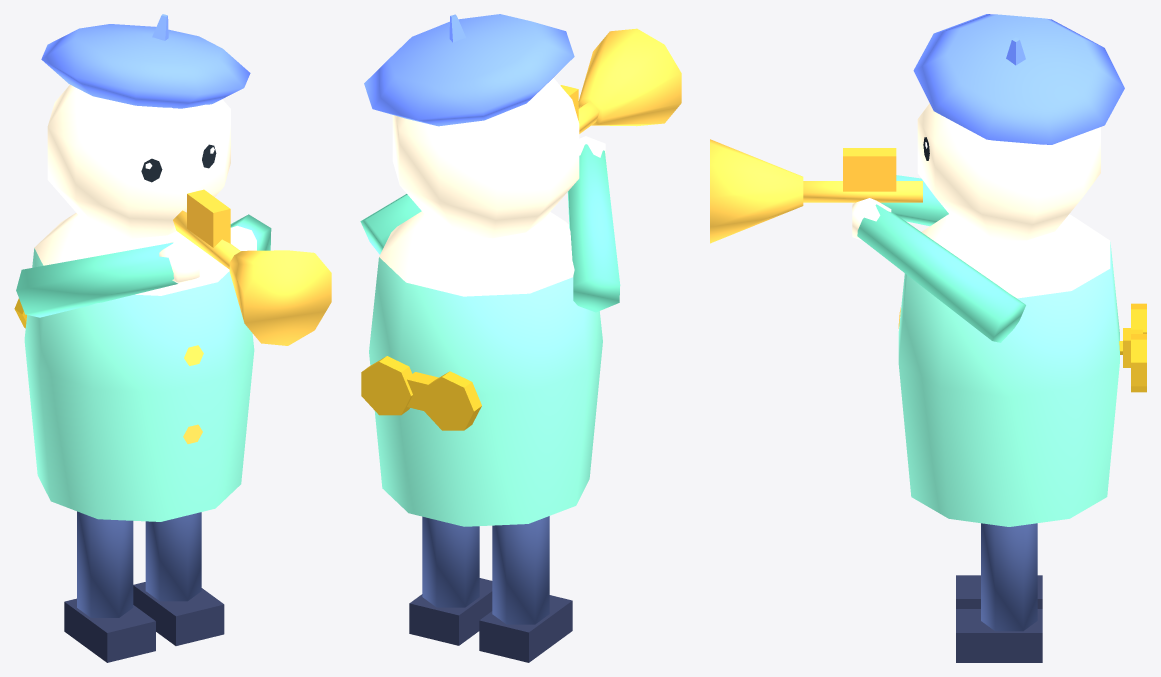
The model's file is band-trumpet.glb.
3 views of the same model, side by side, from view 1: azimuth 30°, elevation 25°; view 2: azimuth 150°, elevation 25°; view 3: azimuth 270°, elevation 25° (orthographic).
Parts seen in each view (by area): view 1: band-trumpet; view 2: band-trumpet; view 3: band-trumpet.
Boxes of the visible parts, <box> form: band-trumpet: <box>14,14,331,662</box>; band-trumpet: <box>360,14,681,662</box>; band-trumpet: <box>710,14,1146,662</box>.
Size of the model in its own units: 0.8923 by 2.02 by 1.31.
